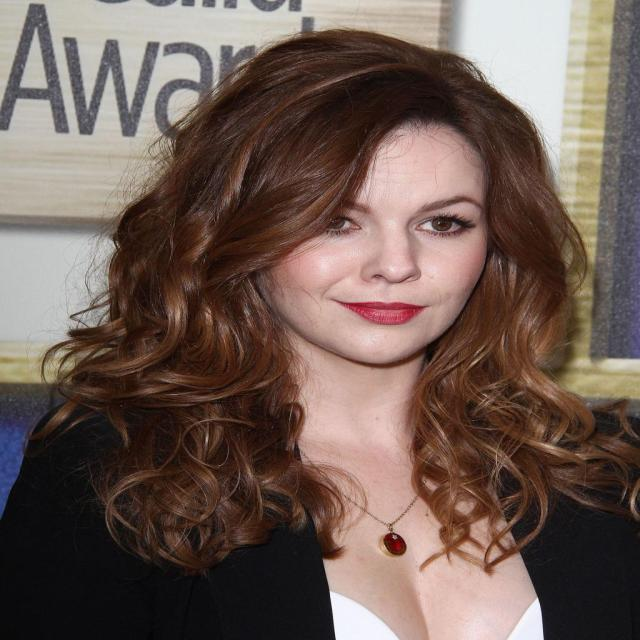Face: (266, 121, 501, 360)
